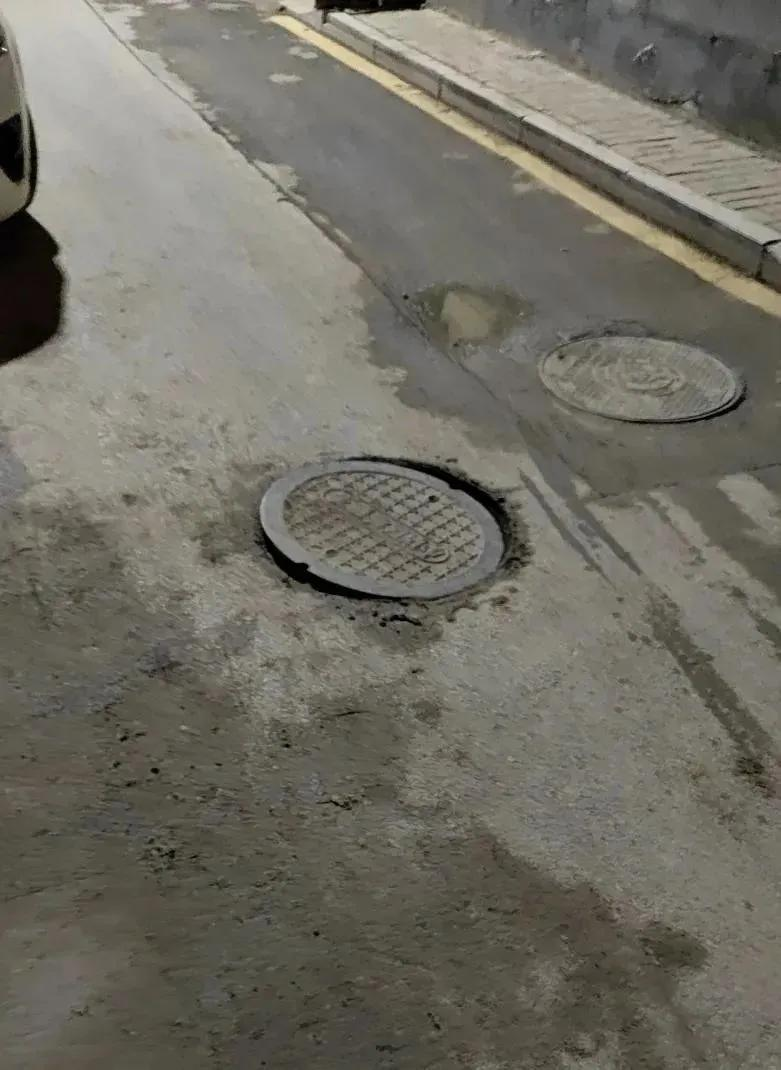wellcover: (203, 373, 561, 630), (505, 287, 764, 474)
